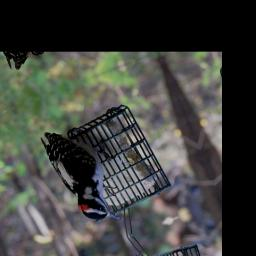Woodpecker: (38, 113, 139, 236)
